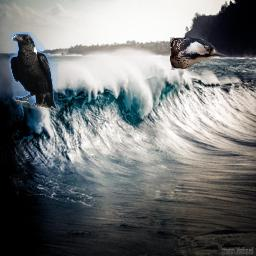Crow: (9, 32, 58, 111)
Woodpecker: (170, 35, 226, 70)
